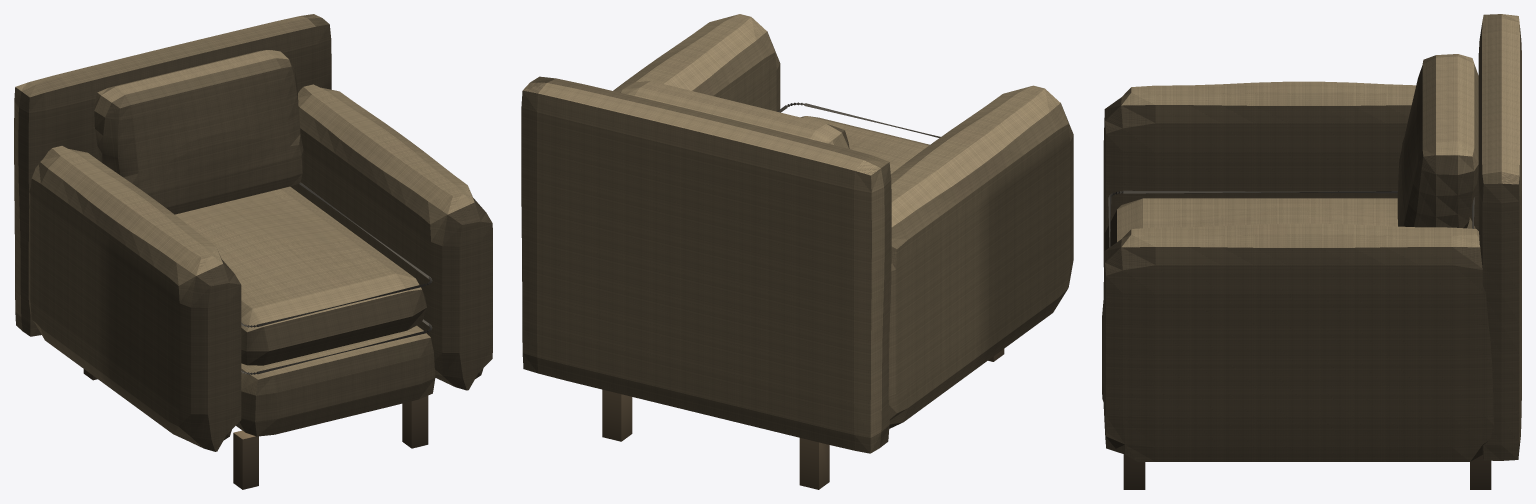
The model's file is reading.chair.glb.
The picture shows the model from 3 angles, left to right: view 1: azimuth 30°, elevation 25°; view 2: azimuth 150°, elevation 25°; view 3: azimuth 270°, elevation 25°; orthographic projection. The views are drawn at different scales.
Parts seen in each view (by area): view 1: asset:composed-furniture:reading.chair:fabric:eyJwcmVzZXQiOi, asset:composed-furniture:reading.chair:pbr0, asset:composed-furniture:reading.chair:pbr1; view 2: asset:composed-furniture:reading.chair:fabric:eyJwcmVzZXQiOi, asset:composed-furniture:reading.chair:pbr0; view 3: asset:composed-furniture:reading.chair:fabric:eyJwcmVzZXQiOi, asset:composed-furniture:reading.chair:pbr0, asset:composed-furniture:reading.chair:pbr1.
Boxes of the visible parts, left/top/right/bottom form: asset:composed-furniture:reading.chair:fabric:eyJwcmVzZXQiOi: left=14, top=14, right=492, bottom=451; asset:composed-furniture:reading.chair:pbr0: left=83, top=369, right=428, bottom=489; asset:composed-furniture:reading.chair:pbr1: left=241, top=182, right=432, bottom=374; asset:composed-furniture:reading.chair:fabric:eyJwcmVzZXQiOi: left=521, top=14, right=1073, bottom=453; asset:composed-furniture:reading.chair:pbr0: left=602, top=349, right=1004, bottom=489; asset:composed-furniture:reading.chair:fabric:eyJwcmVzZXQiOi: left=1102, top=14, right=1521, bottom=461; asset:composed-furniture:reading.chair:pbr0: left=1123, top=454, right=1491, bottom=489; asset:composed-furniture:reading.chair:pbr1: left=1108, top=190, right=1474, bottom=247.
Bounding box in the file's own units: 0.84 × 0.78 × 0.86.
Materials: 3 (1 with a texture image).
